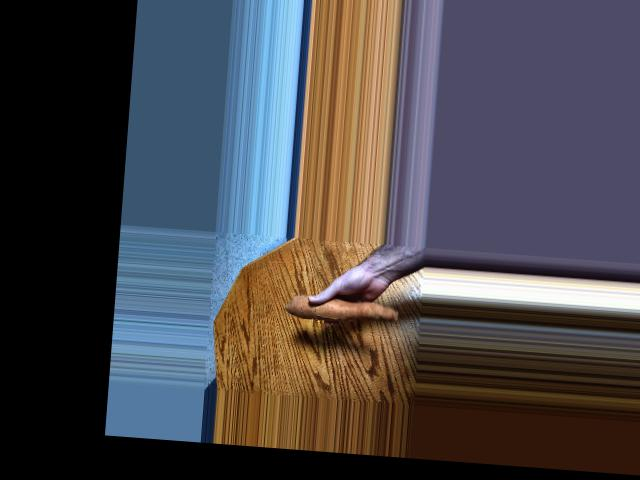sweet_potato: (290, 289, 399, 329)
